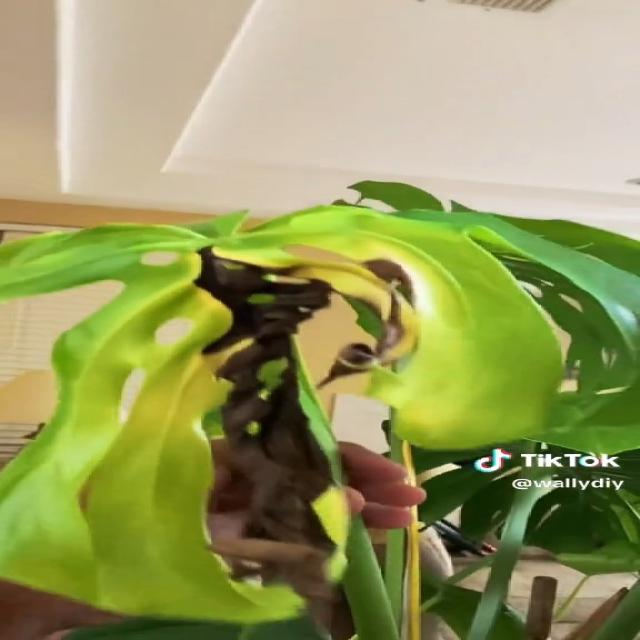lisc_suchy: (188, 244, 423, 630)
roslina_sucha: (0, 185, 640, 640)
